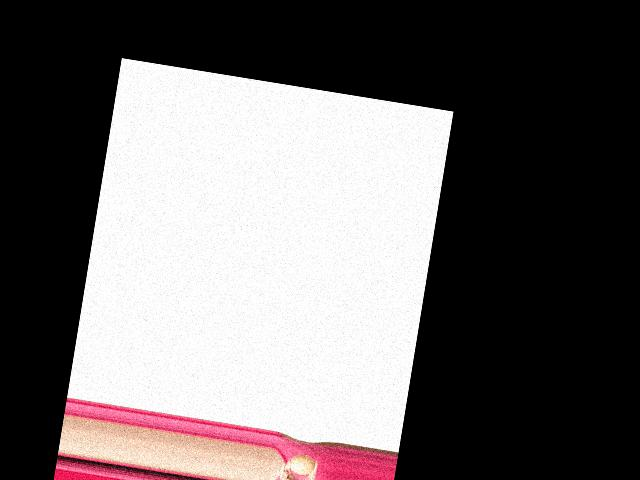egg: (288, 453, 316, 476)
